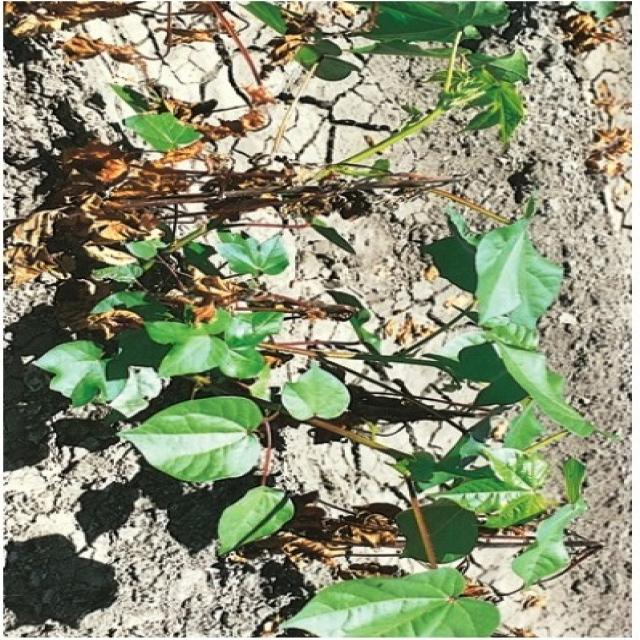Fusarium Wilt: (22, 10, 571, 640)
